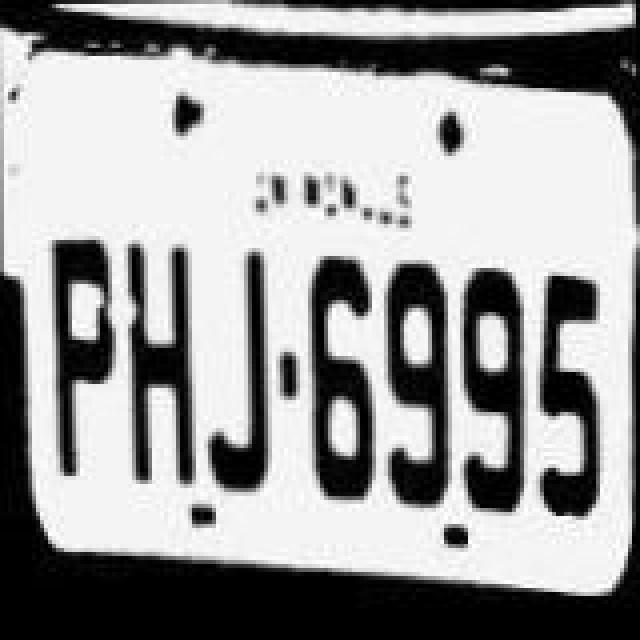5: (534, 266, 610, 518)
6: (296, 256, 376, 508)
9: (382, 254, 458, 506), (462, 270, 538, 518)
H: (118, 240, 198, 492)
J: (192, 242, 276, 494)
P: (42, 242, 122, 494)
